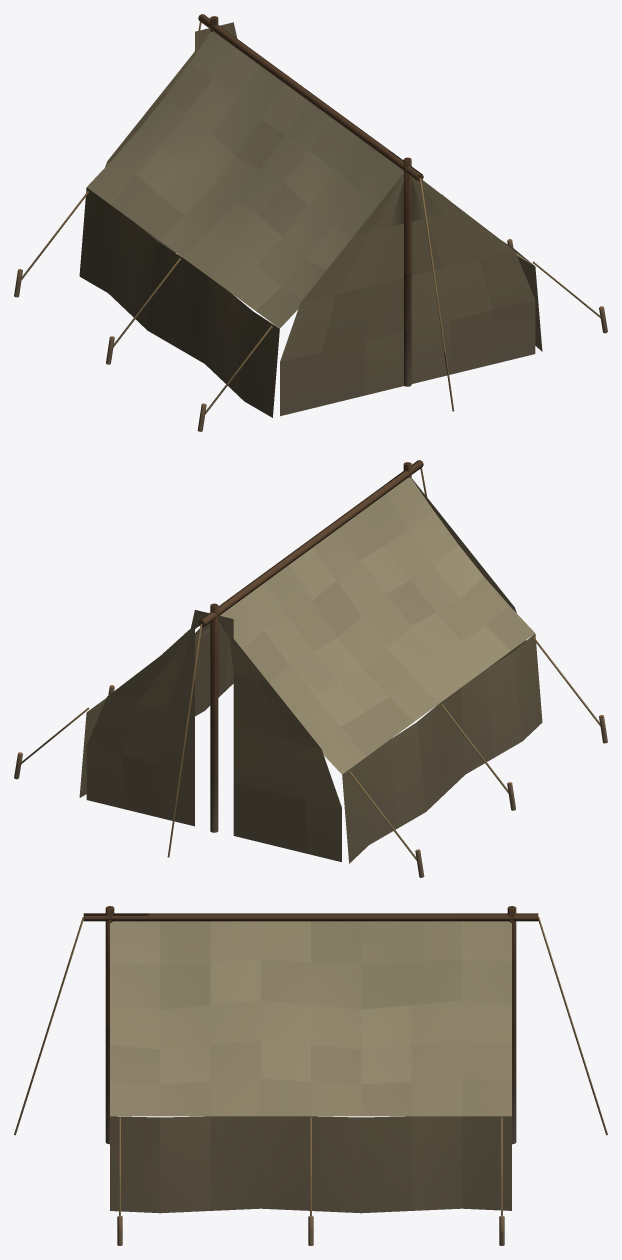
File: tent.glb
The picture shows the model from 3 angles, top to bottom: view 1: azimuth 30°, elevation 25°; view 2: azimuth 150°, elevation 25°; view 3: azimuth 270°, elevation 25°; orthographic projection. The views are drawn at different scales.
Parts seen in each view (by area): view 1: cloth-001, wood-001; view 2: cloth-001, wood-001; view 3: cloth-001, wood-001.
Part boxes in pixels (bbox=[...]): cloth-001: bbox=[79, 22, 542, 417]; wood-001: bbox=[14, 14, 607, 431]; cloth-001: bbox=[79, 477, 542, 863]; wood-001: bbox=[14, 460, 607, 877]; cloth-001: bbox=[110, 921, 511, 1213]; wood-001: bbox=[14, 906, 607, 1245].
Bounding box in the file's own units: 4.64 × 2.45 × 5.62.
